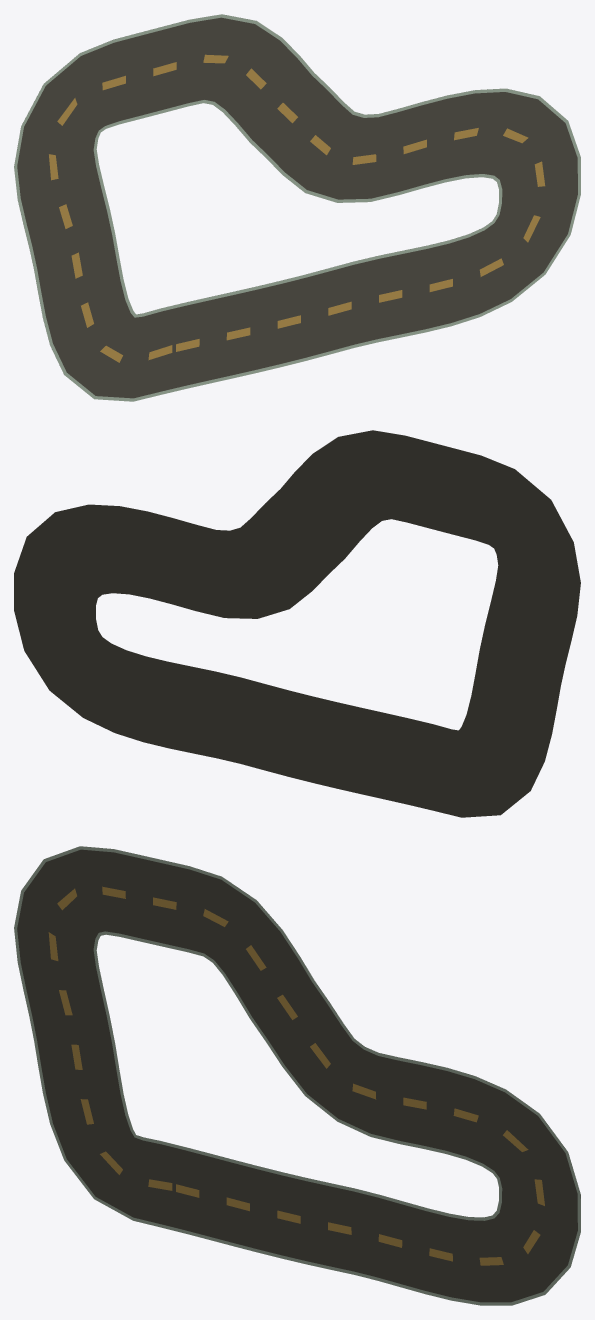
File: track.obj
The picture shows the model from 3 angles, top to bottom: view 1: azimuth 30°, elevation 25°; view 2: azimuth 150°, elevation 25°; view 3: azimuth 330°, elevation 25°; orthographic projection.
Size of the model in its own units: 7.27 by 4.54 by 0.002.
